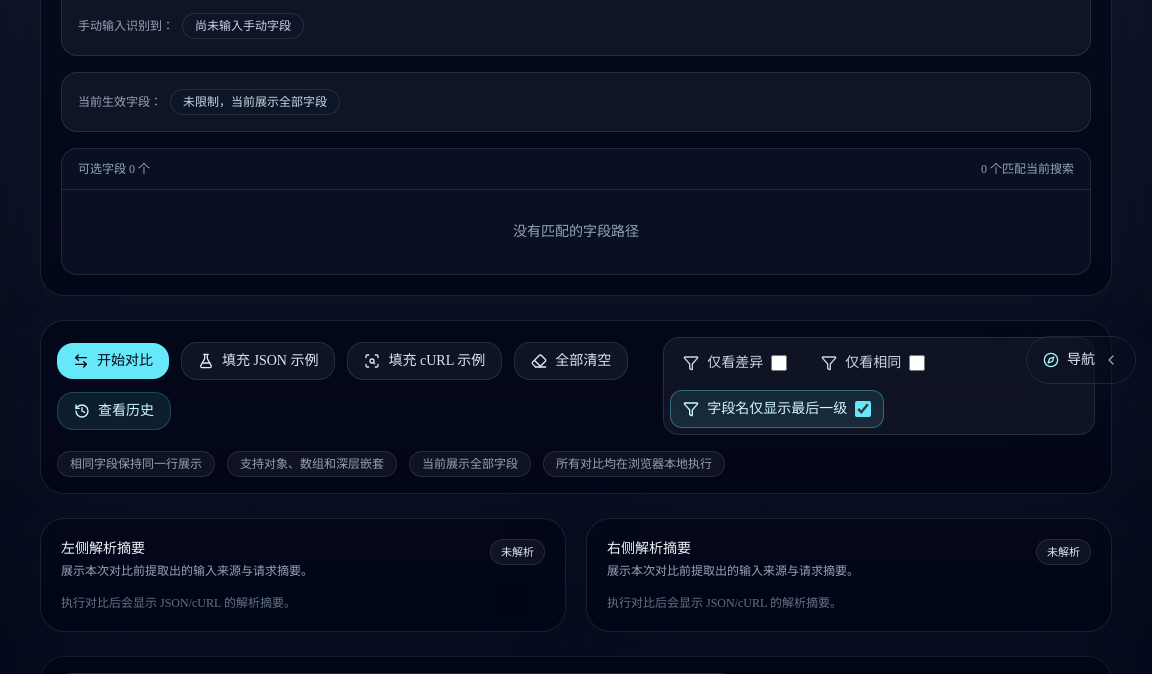
Home › 支持清空手动输入并恢复默认展示全部字段
The image size is (1152, 674).
(page scrolled)
Click the button "填充 JSON 示例": coordinates (258, 360) x1=181 y1=342 x2=336 y2=380
(page scrolled)
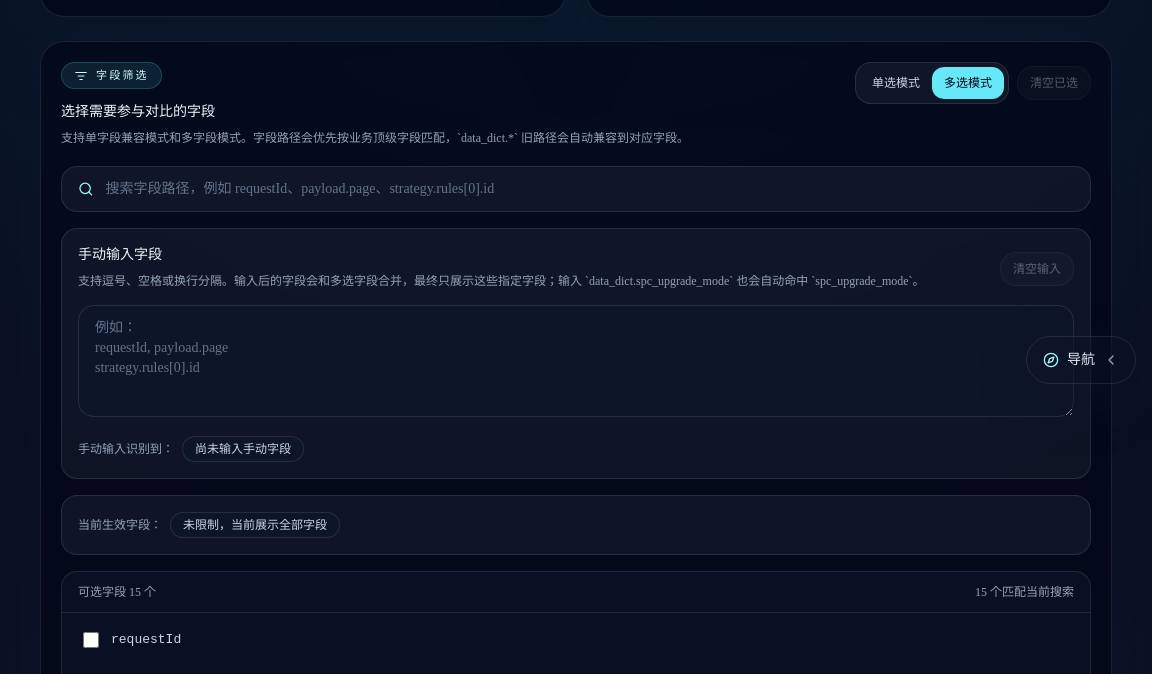
In the text box named "手动输入字段": coordinates (576, 360) x1=78 y1=304 x2=1074 y2=416, type "requestId"
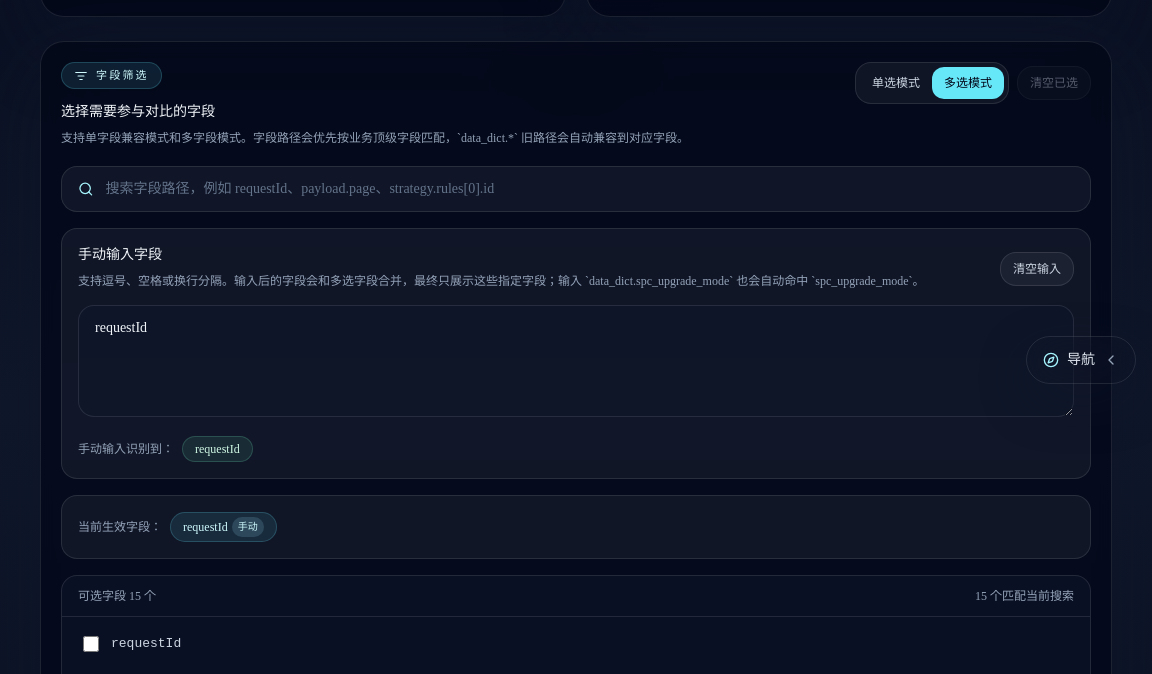
Click the button "清空输入": coordinates (1037, 268) x1=1000 y1=252 x2=1074 y2=286
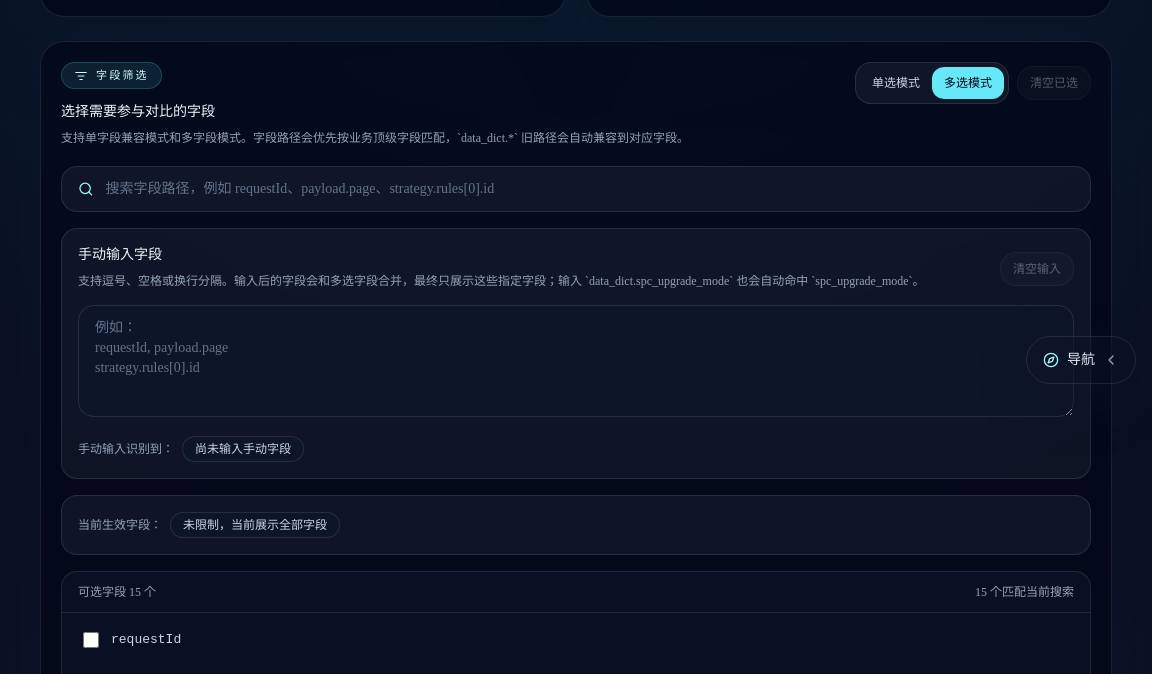
Now the text box named "手动输入字段" is empty, box x1=78 y1=304 x2=1074 y2=416
